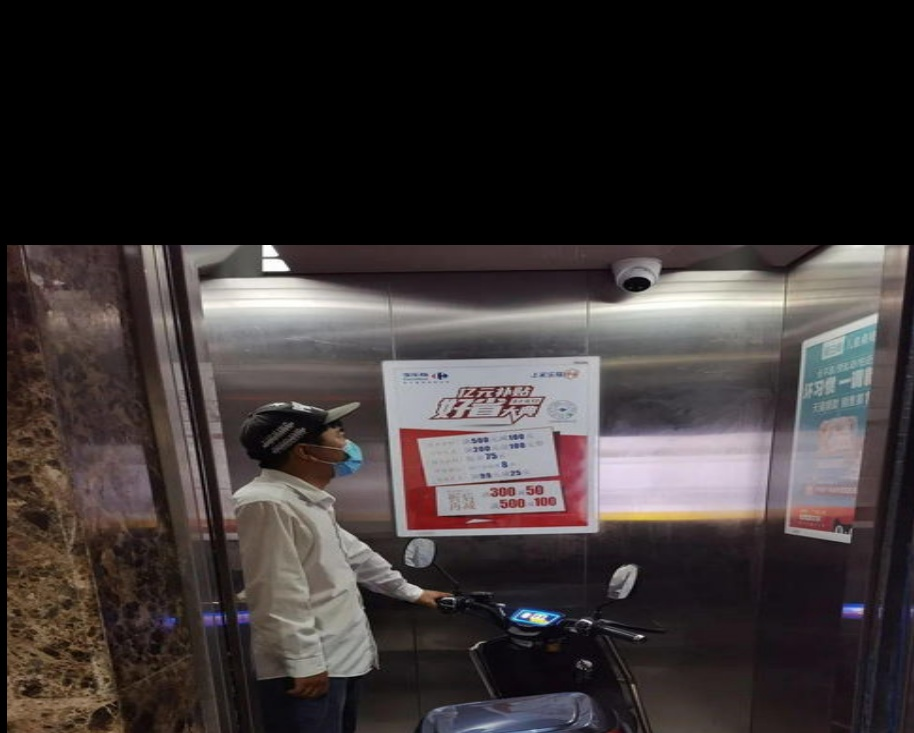ebike: (398, 541, 653, 733)
person: (236, 400, 437, 729)
